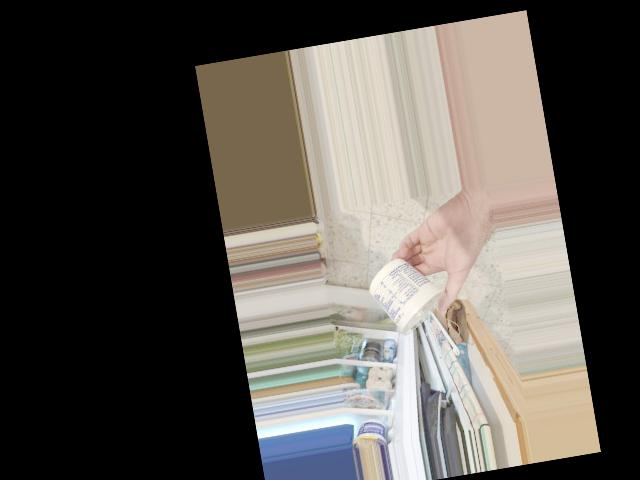cotage: (363, 250, 449, 343)
